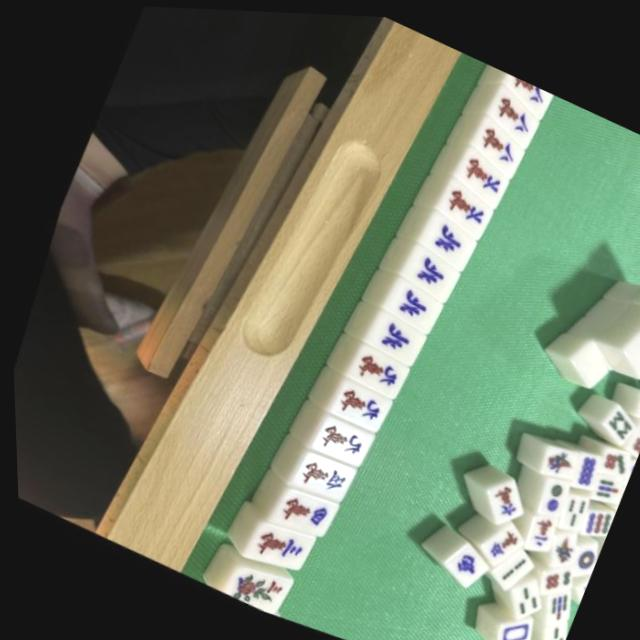bs3: (199, 545, 279, 620)
hwn: (412, 214, 468, 267), (394, 246, 449, 298), (358, 311, 411, 362), (377, 279, 428, 328)
sc3: (226, 510, 298, 576)
sc4: (252, 475, 325, 544)
sc5: (273, 442, 342, 507)
sc7: (424, 177, 488, 236), (441, 146, 504, 205)
sc8: (473, 86, 537, 146), (458, 115, 521, 173), (492, 67, 550, 115)
sc9: (313, 371, 379, 433), (294, 409, 360, 470), (334, 340, 396, 396)
